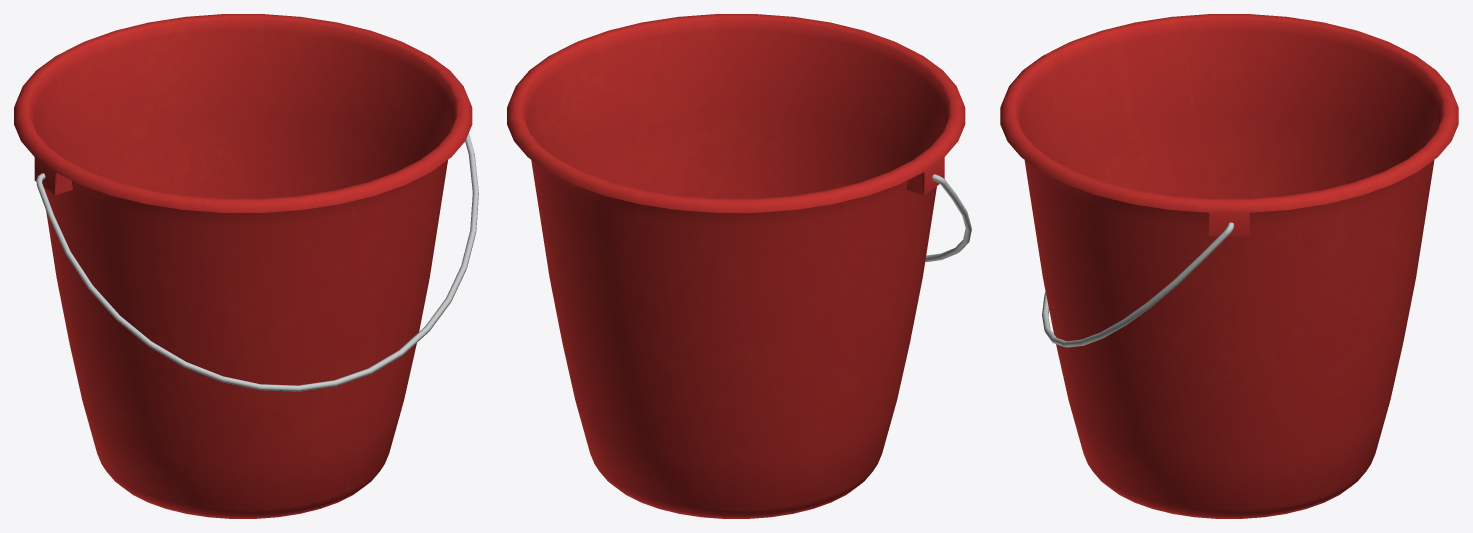
File: red bucket.fbx
The picture shows the model from 3 angles, left to right: view 1: azimuth 30°, elevation 25°; view 2: azimuth 150°, elevation 25°; view 3: azimuth 270°, elevation 25°; orthographic projection.
Parts seen in each view (by area): view 1: Bucket3; view 2: Bucket3; view 3: Bucket3.
Boxes of the visible parts, <box> form: Bucket3: <box>14,14,478,518</box>; Bucket3: <box>507,14,971,518</box>; Bucket3: <box>1000,14,1458,518</box>.
Size of the model in its own units: 1.06 by 0.867 by 1.02.
1 material, 1 textured.
